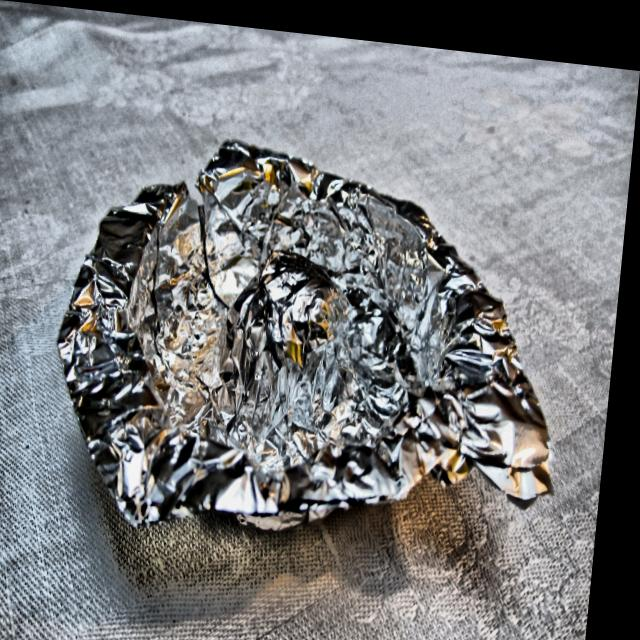Foil: (49, 115, 586, 568)
